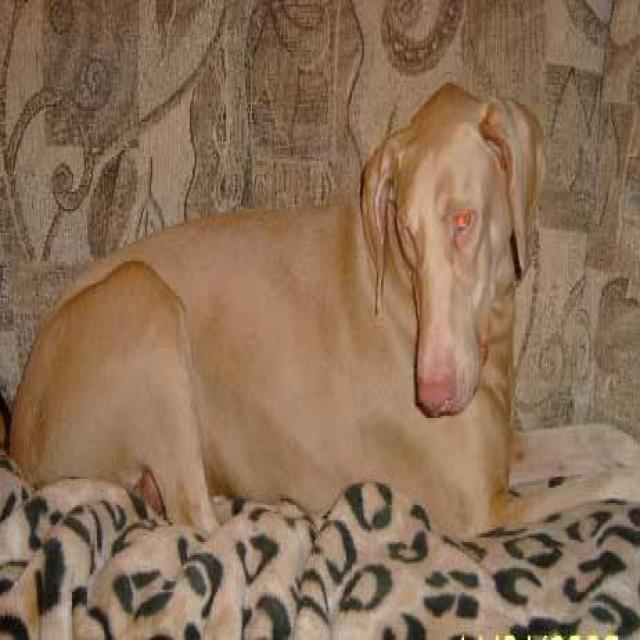cat: (3, 59, 640, 545)
